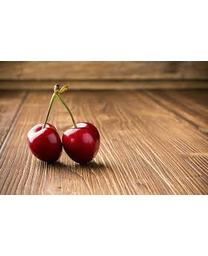cherry: (61, 122, 100, 164), (25, 122, 60, 162)
